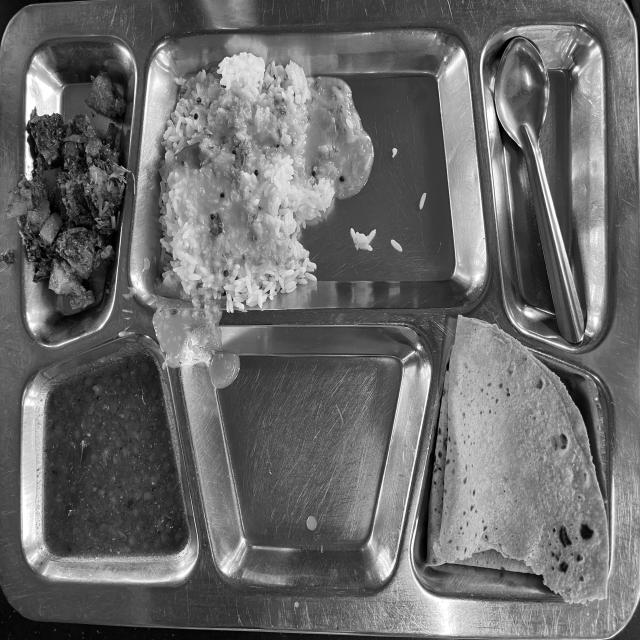70-Food-Left: (10, 22, 622, 600)
